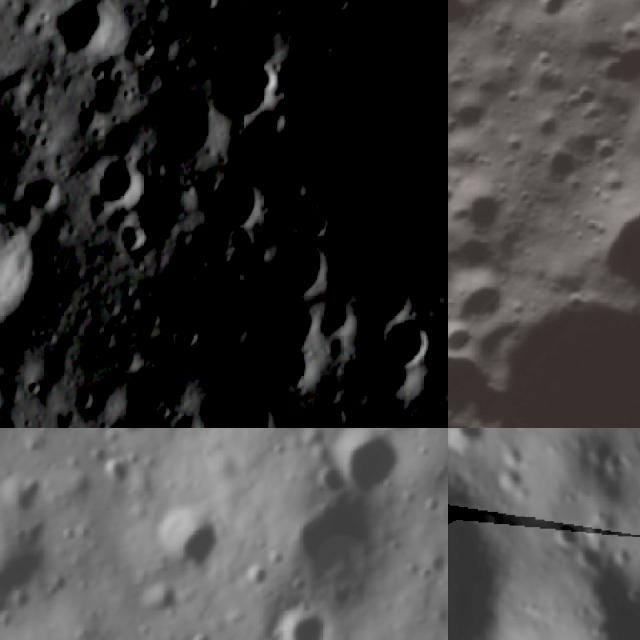crater: (307, 0, 448, 308), (448, 0, 640, 70), (571, 490, 640, 640), (448, 487, 511, 640), (203, 40, 283, 132), (149, 80, 225, 174), (448, 251, 519, 350), (298, 500, 372, 590), (192, 157, 269, 242), (250, 226, 330, 306), (572, 14, 640, 108), (0, 190, 38, 346), (448, 167, 518, 245), (79, 140, 147, 220), (375, 302, 446, 377), (47, 0, 124, 61), (342, 428, 399, 494), (162, 512, 216, 574), (532, 140, 590, 197), (610, 87, 640, 187), (448, 82, 495, 140), (108, 216, 156, 260), (448, 313, 482, 374), (24, 160, 61, 216), (276, 607, 335, 640), (236, 389, 276, 428), (546, 511, 579, 553), (448, 428, 494, 455), (314, 466, 340, 496), (448, 171, 463, 222), (448, 33, 459, 87)
